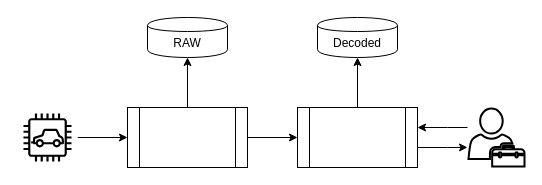
This 542x185 diagram has some shape labels left out. Each missing label, with the centre of its shape:
"Data Collection" belongs at (187,137).
"Data Extraction" belongs at (357,137).
